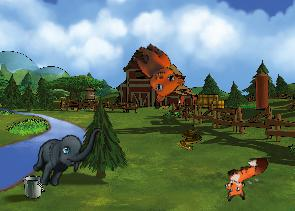bear: (120, 38, 190, 106)
elephant: (29, 114, 101, 196)
fox: (216, 154, 277, 205)
